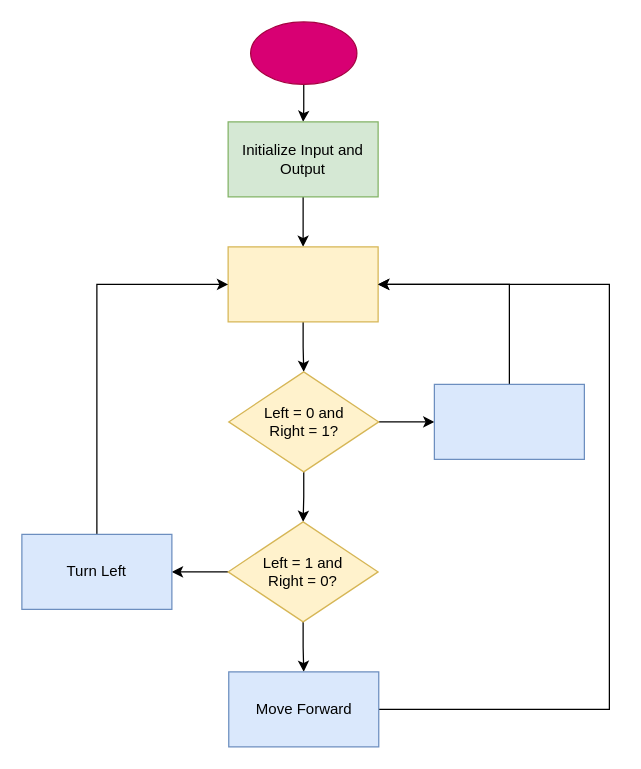
Image size: 641x769. Some labels were removed from this diagram. The centre of each missing label's shape, as x and y in pixels:
"Read Left and Right Line Sensor" goes at [302,284].
"Start" goes at [303,52].
"Turn Right" goes at [508,421].
